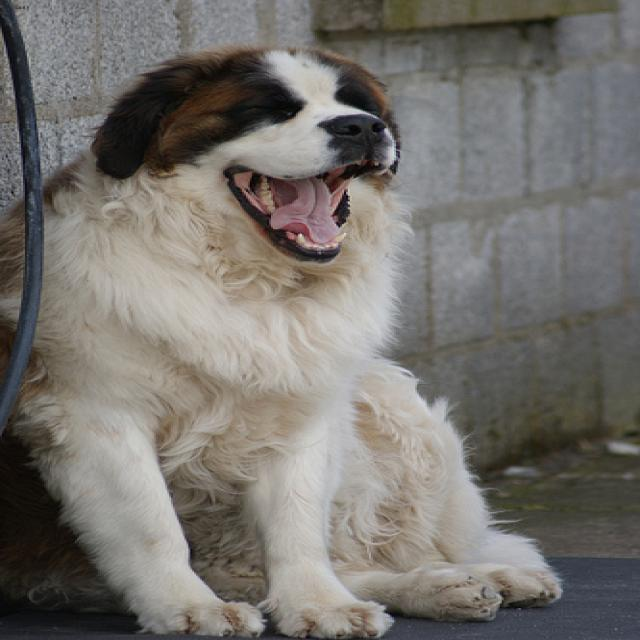dog-saint_bernard: (2, 41, 573, 637)
